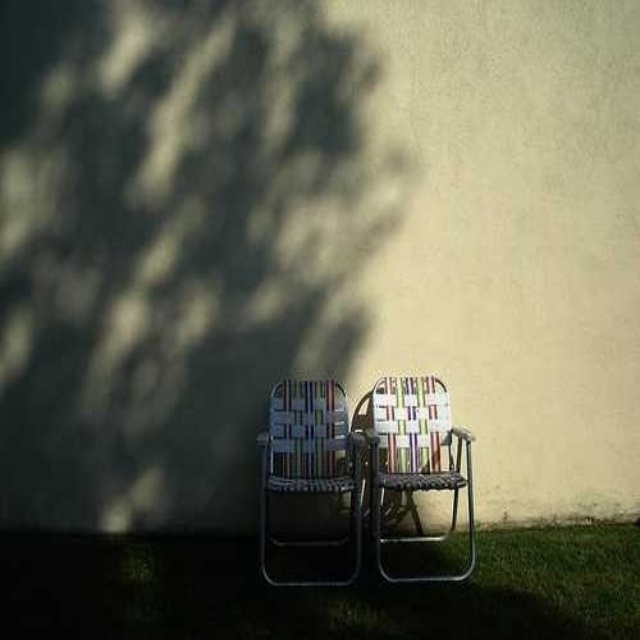obstacle: (352, 372, 475, 582), (259, 379, 362, 584)
